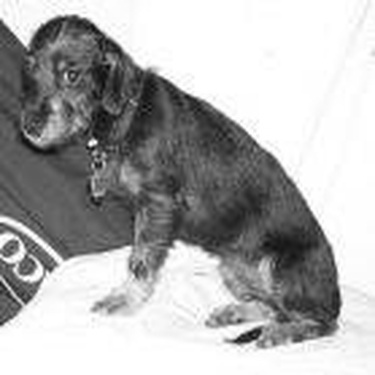dog: (10, 1, 349, 357)
